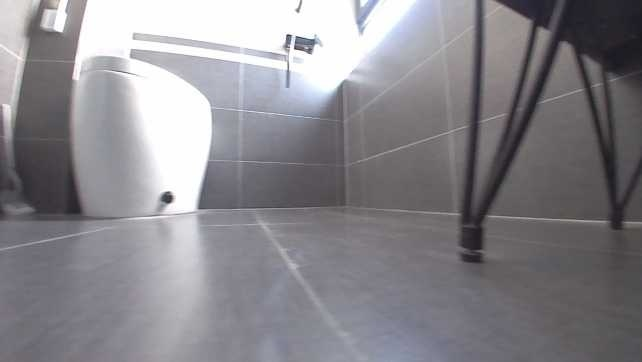toilet: (72, 53, 211, 214)
